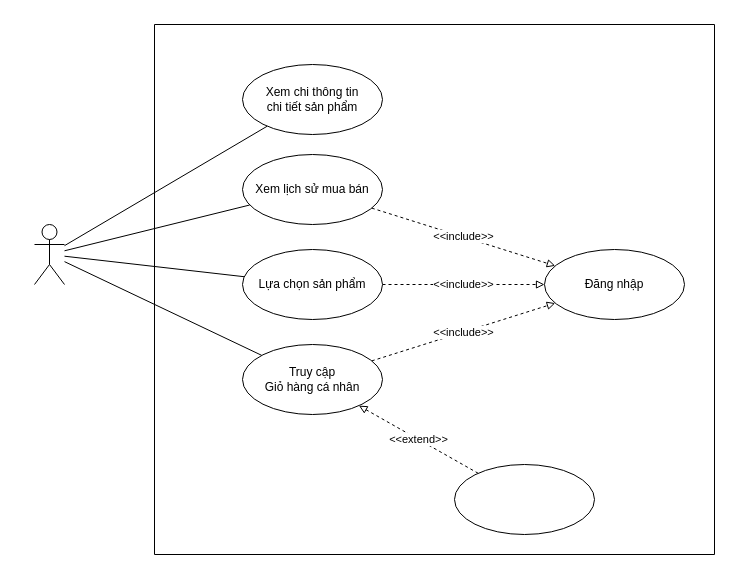
The diagram is 732 pixels wide and 572 high, and some of its shapes have lost their labels. Each missing label, with the box of its shape:
Người dùng: (34, 224, 64, 284)
Quản lí Giò hàng cá nhân: (454, 464, 594, 534)
